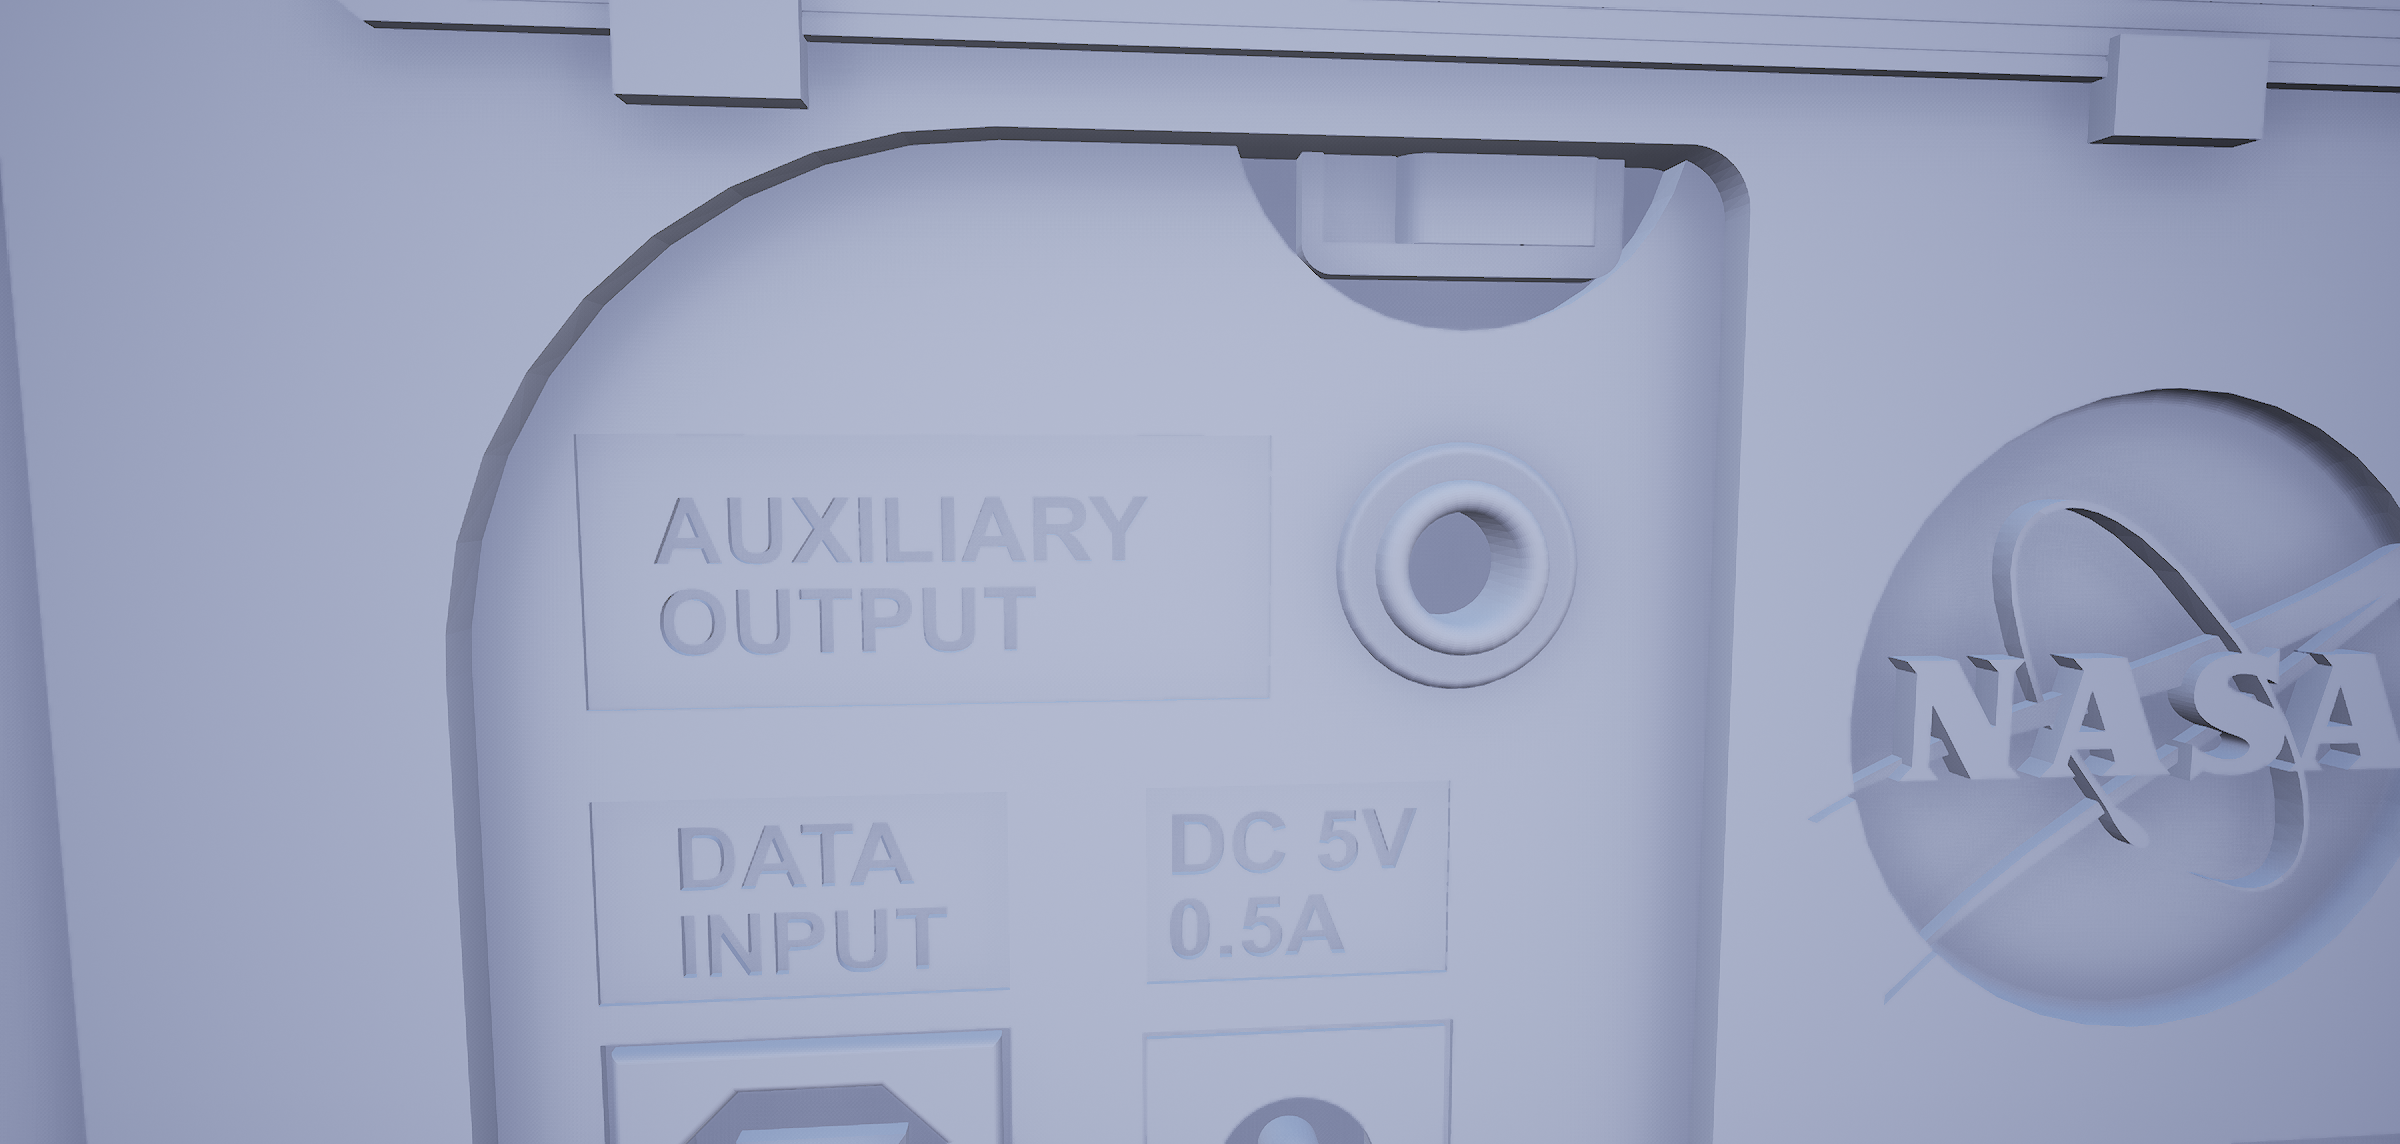aux: (1335, 436, 1586, 706)
dc: (1209, 1086, 1381, 1144)
usb: (667, 1077, 960, 1144)
